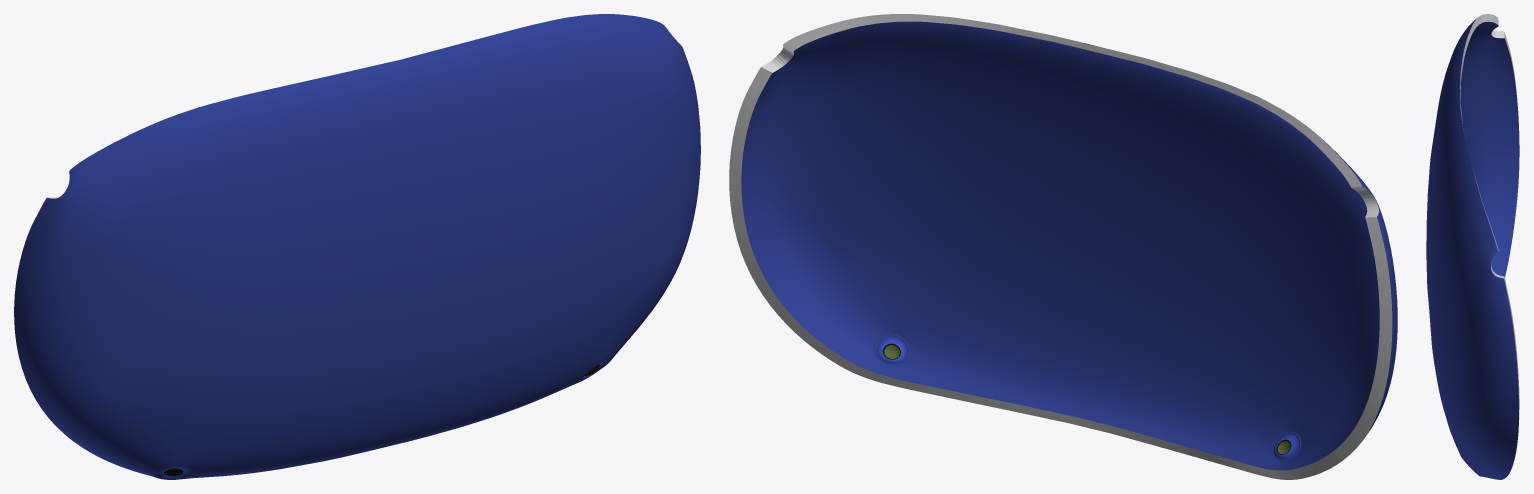
The model's file is abb.fbx.
3 renders of one model, left to right at view 1: azimuth 30°, elevation 25°; view 2: azimuth 150°, elevation 25°; view 3: azimuth 270°, elevation 25°, orthographic. The views are drawn at different scales.
Visible parts, largest first — view 1: Abdeckung2; view 2: Abdeckung2; view 3: Abdeckung2.
Part boxes in pixels (<box>): Abdeckung2: <box>14,14,700,479</box>; Abdeckung2: <box>729,14,1397,479</box>; Abdeckung2: <box>1426,14,1519,479</box>.
Size of the model in its own units: 124 by 67.89 by 18.32.
